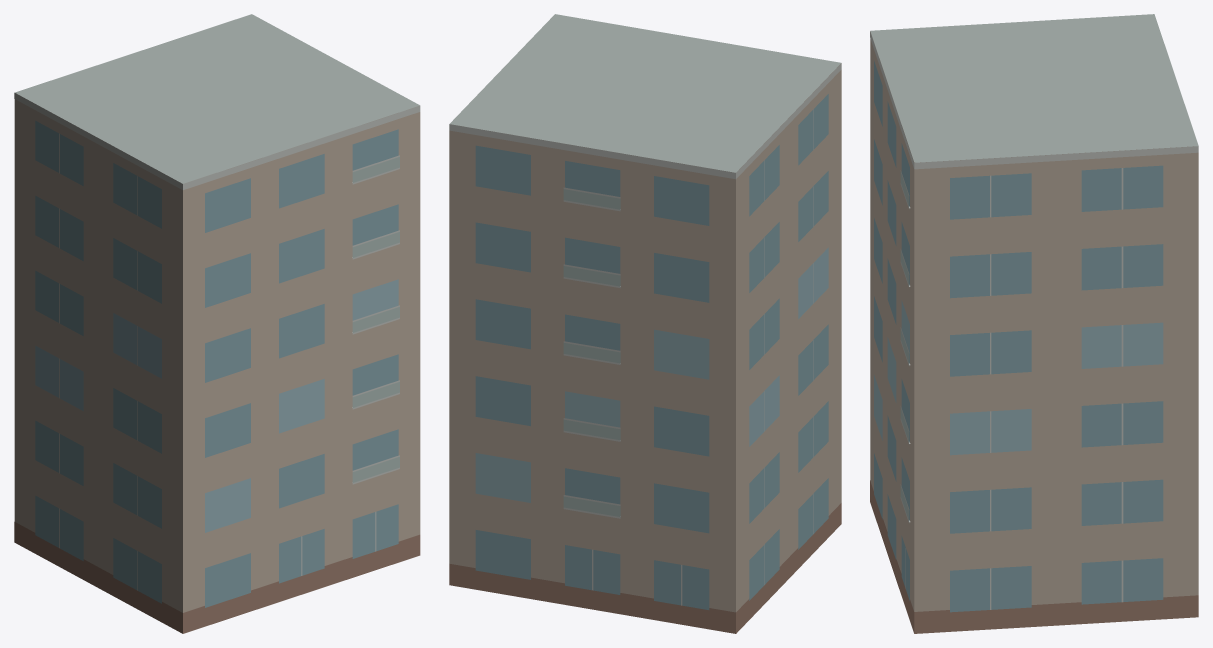
File: survey-upis-32732588.glb
The picture shows the model from 3 angles, left to right: view 1: azimuth 30°, elevation 25°; view 2: azimuth 150°, elevation 25°; view 3: azimuth 270°, elevation 25°; orthographic projection. The views are drawn at different scales.
Parts seen in each view (by area): view 1: survey-upis-32732588.tmp; view 2: survey-upis-32732588.tmp; view 3: survey-upis-32732588.tmp.
Part boxes in pixels (x1,y1,x2,y2): survey-upis-32732588.tmp: [14, 14, 420, 633]; survey-upis-32732588.tmp: [449, 14, 841, 633]; survey-upis-32732588.tmp: [870, 14, 1198, 633].
Bounding box in the file's own units: 11.79 × 17.4 × 11.01.
